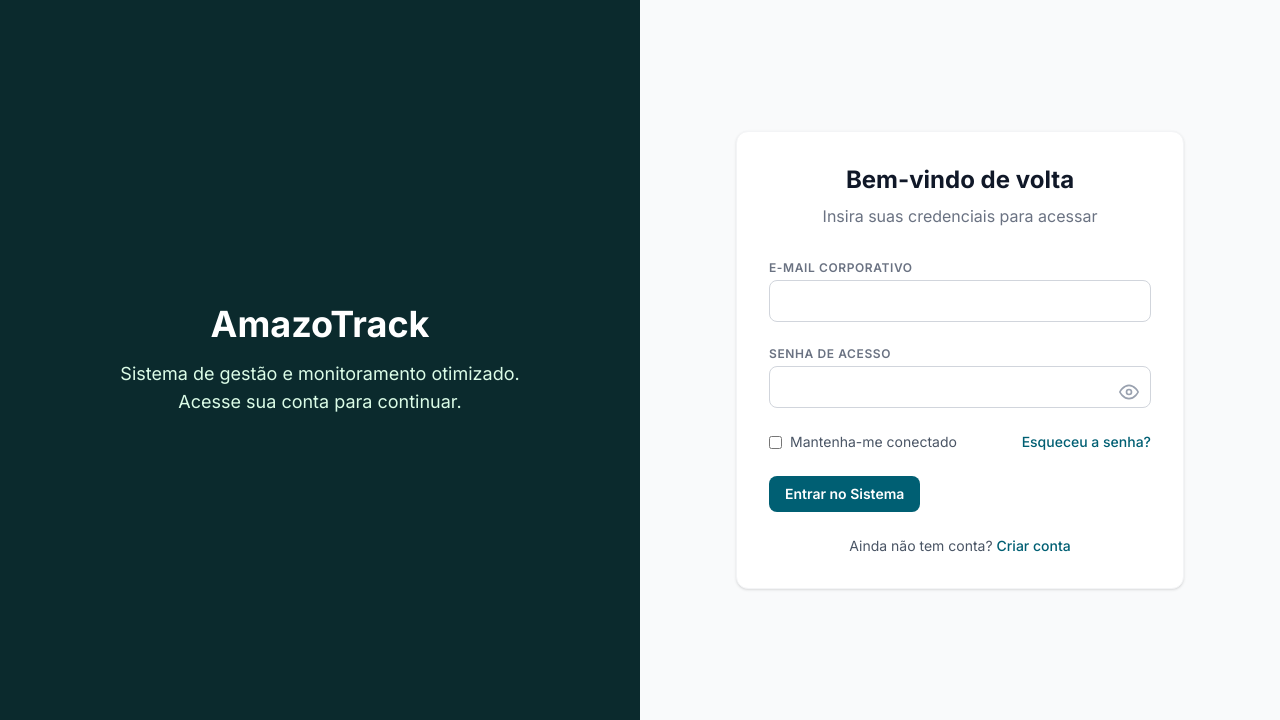
Test case: Login › shows backend login errors without storing a token
Type "arthur@amazotrack.com" into the field labelled "E-mail Corporativo" at coordinates (960, 301), box [769,280,1151,322]
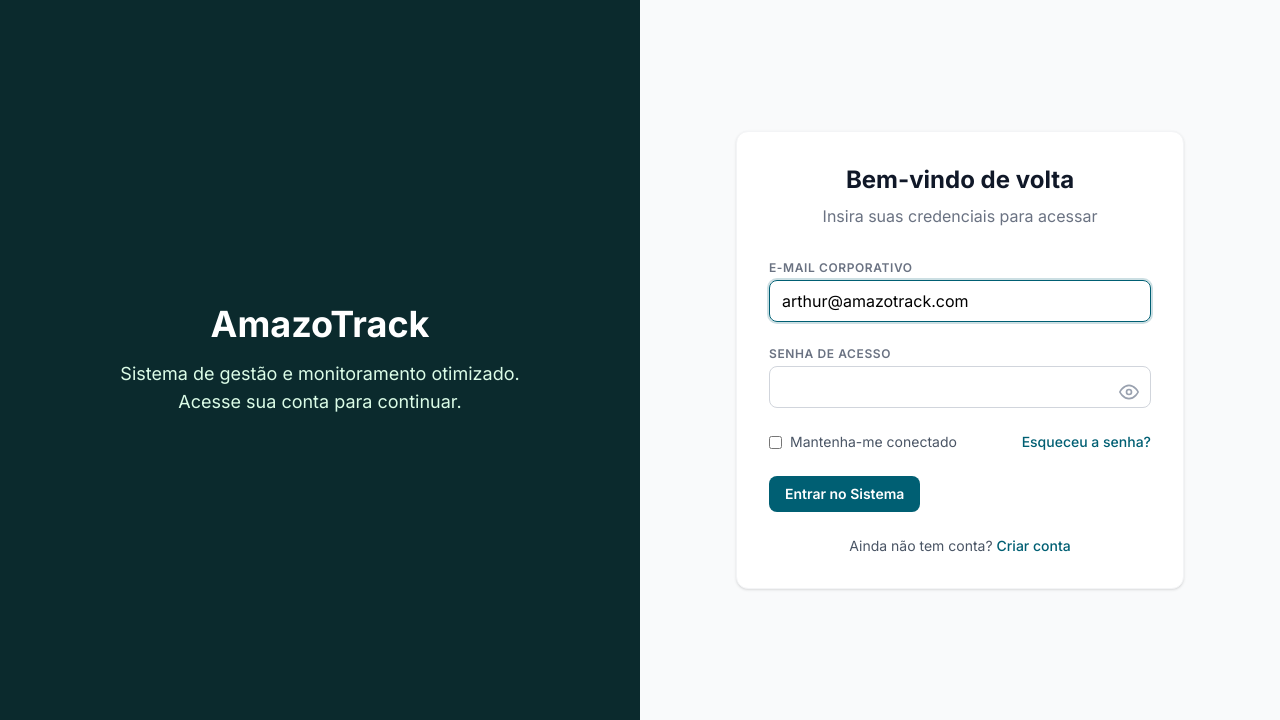
Type "wrong" into the password field labelled "Senha de Acesso" at coordinates (960, 387), box [769,366,1151,408]
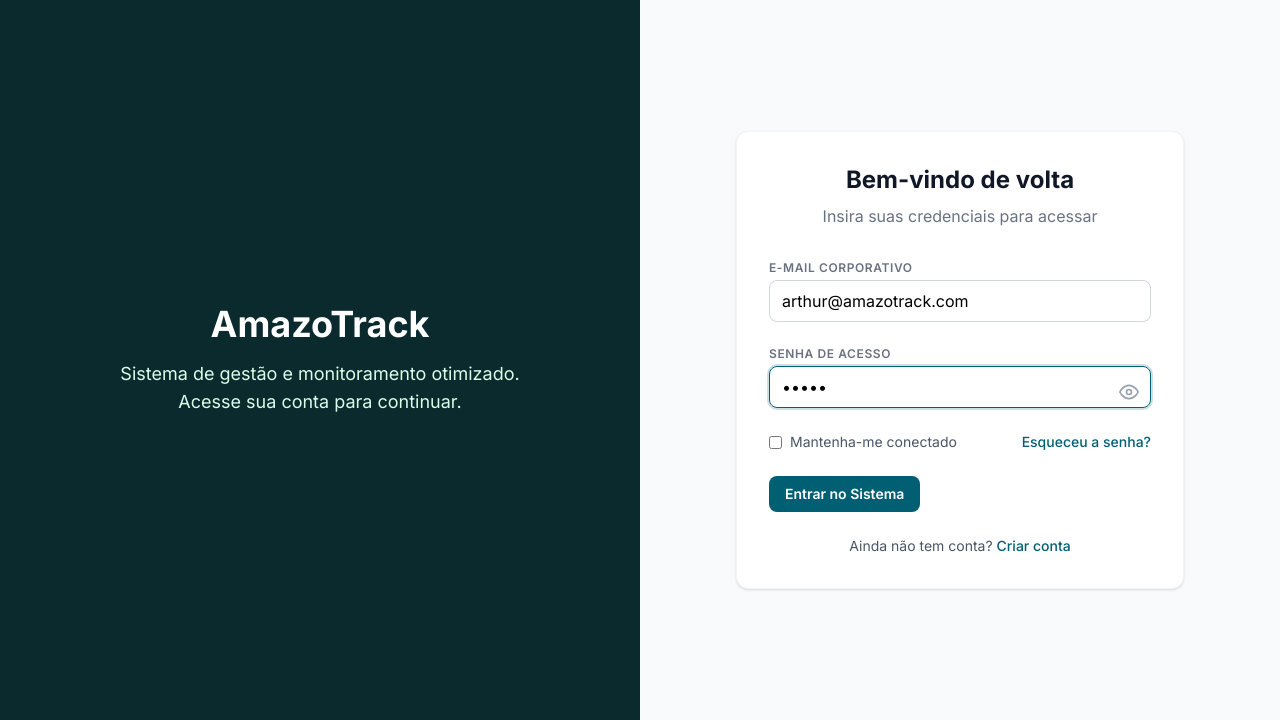
Click the button "Entrar no Sistema" at coordinates (845, 494), box [769,476,920,512]
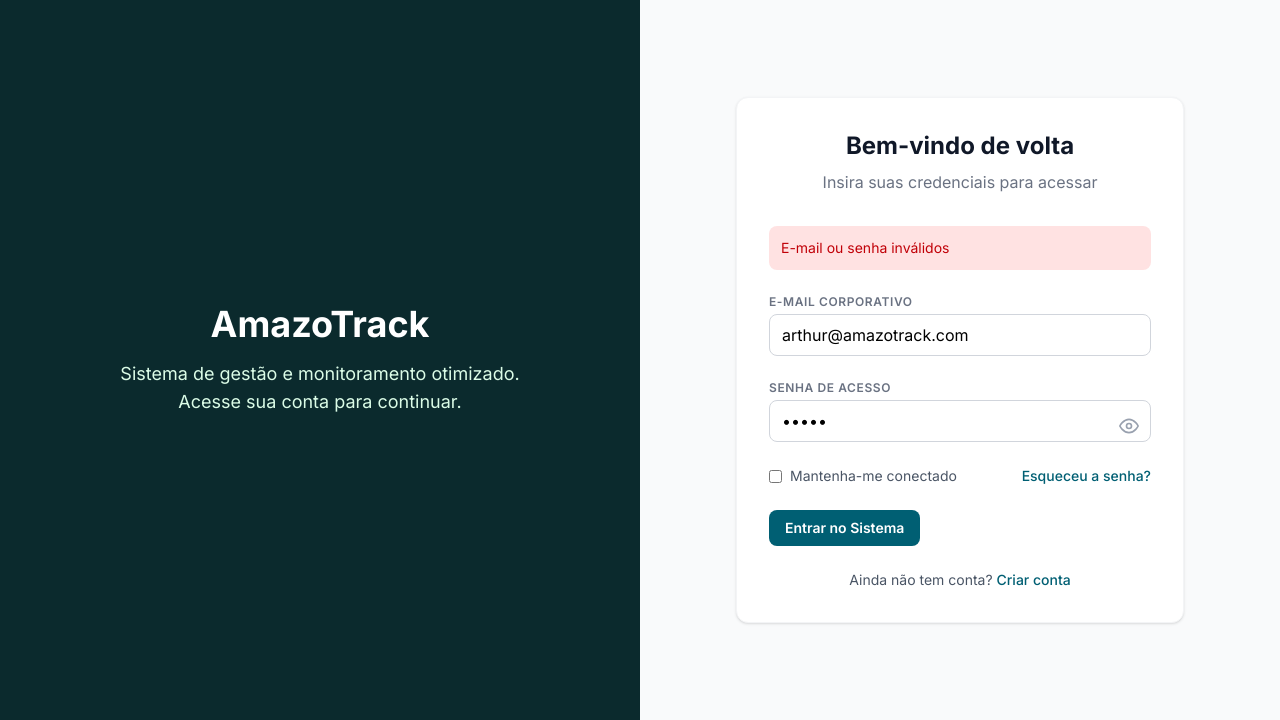
Expected: the text "E-mail ou senha inválidos" is shown, [769,226,1151,270]
